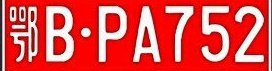B: (46, 6, 74, 62)
